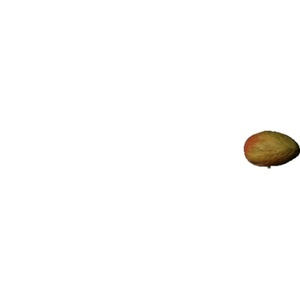mamão: (238, 133, 298, 168)
